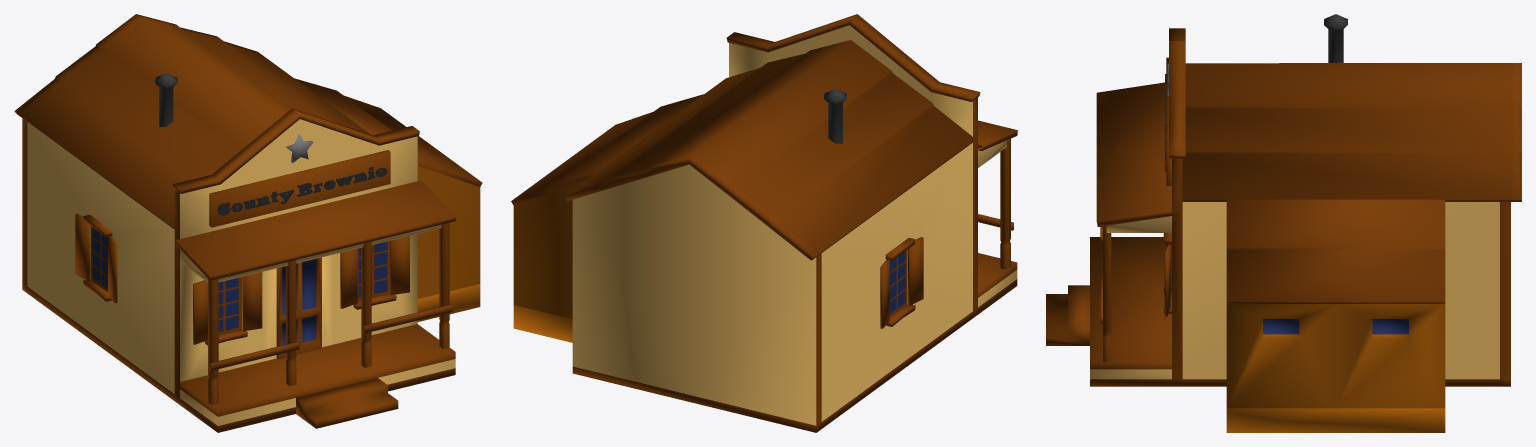
The model's file is Western_CountyBrownie_Parts.fbx.
The picture shows the model from 3 angles, left to right: view 1: azimuth 30°, elevation 25°; view 2: azimuth 150°, elevation 25°; view 3: azimuth 270°, elevation 25°; orthographic projection. The views are drawn at different scales.
Visible parts, largest first — view 1: WesternBuilding_CountyBrownie.Parts.024, WesternBuilding_CountyBrownie.Parts.003, WesternBuilding_CountyBrownie.Parts, WesternBuilding_CountyBrownie.Parts.005, WesternBuilding_CountyBrownie.Parts.006, WesternBuilding_CountyBrownie.Parts.007, WesternBuilding_CountyBrownie.Parts.002, WesternBuilding_CountyBrownie.Parts.008, WesternBuilding_CountyBrownie.Parts.001, WesternBuilding_CountyBrownie.Parts.022, WesternBuilding_CountyBrownie.Parts.018, WesternBuilding_CountyBrownie.Parts.023 (+8 smaller); view 2: WesternBuilding_CountyBrownie.Parts, WesternBuilding_CountyBrownie.Parts.003, WesternBuilding_CountyBrownie.Parts.002, WesternBuilding_CountyBrownie.Parts.006, WesternBuilding_CountyBrownie.Parts.024, WesternBuilding_CountyBrownie.Parts.001, WesternBuilding_CountyBrownie.Parts.008, WesternBuilding_CountyBrownie.Parts.022, WesternBuilding_CountyBrownie.Parts.004, WesternBuilding_CountyBrownie.Parts.005; view 3: WesternBuilding_CountyBrownie.Parts.002, WesternBuilding_CountyBrownie.Parts.006, WesternBuilding_CountyBrownie.Parts.001, WesternBuilding_CountyBrownie.Parts, WesternBuilding_CountyBrownie.Parts.024, WesternBuilding_CountyBrownie.Parts.005, WesternBuilding_CountyBrownie.Parts.008, WesternBuilding_CountyBrownie.Parts.019, WesternBuilding_CountyBrownie.Parts.004, WesternBuilding_CountyBrownie.Parts.007, WesternBuilding_CountyBrownie.Parts.015.
Boxes of the visible parts, x1,y1,x2,y2 form: WesternBuilding_CountyBrownie.Parts.024: (174, 119, 455, 432); WesternBuilding_CountyBrownie.Parts.003: (14, 14, 278, 229); WesternBuilding_CountyBrownie.Parts: (22, 118, 174, 400); WesternBuilding_CountyBrownie.Parts.005: (175, 180, 456, 280); WesternBuilding_CountyBrownie.Parts.006: (417, 166, 480, 321); WesternBuilding_CountyBrownie.Parts.007: (209, 150, 390, 227); WesternBuilding_CountyBrownie.Parts.002: (136, 14, 370, 134); WesternBuilding_CountyBrownie.Parts.008: (172, 108, 419, 193); WesternBuilding_CountyBrownie.Parts.001: (294, 78, 482, 186); WesternBuilding_CountyBrownie.Parts.022: (208, 279, 218, 405); WesternBuilding_CountyBrownie.Parts.018: (361, 242, 371, 367); WesternBuilding_CountyBrownie.Parts.023: (286, 260, 296, 386); WesternBuilding_CountyBrownie.Parts: (572, 143, 972, 432); WesternBuilding_CountyBrownie.Parts.003: (689, 40, 975, 260); WesternBuilding_CountyBrownie.Parts.002: (564, 40, 850, 200); WesternBuilding_CountyBrownie.Parts.006: (513, 181, 584, 342); WesternBuilding_CountyBrownie.Parts.024: (729, 25, 1017, 317); WesternBuilding_CountyBrownie.Parts.001: (511, 94, 703, 205); WesternBuilding_CountyBrownie.Parts.008: (726, 14, 980, 101); WesternBuilding_CountyBrownie.Parts.022: (1000, 138, 1010, 269); WesternBuilding_CountyBrownie.Parts.004: (824, 88, 846, 143); WesternBuilding_CountyBrownie.Parts.005: (978, 120, 1017, 150); WesternBuilding_CountyBrownie.Parts.002: (1182, 63, 1521, 201); WesternBuilding_CountyBrownie.Parts.006: (1226, 304, 1445, 432); WesternBuilding_CountyBrownie.Parts.001: (1226, 199, 1445, 303); WesternBuilding_CountyBrownie.Parts: (1182, 202, 1510, 386); WesternBuilding_CountyBrownie.Parts.024: (1046, 158, 1182, 386); WesternBuilding_CountyBrownie.Parts.005: (1096, 82, 1172, 226); WesternBuilding_CountyBrownie.Parts.008: (1169, 28, 1185, 158); WesternBuilding_CountyBrownie.Parts.019: (1103, 226, 1111, 361); WesternBuilding_CountyBrownie.Parts.004: (1324, 14, 1347, 62); WesternBuilding_CountyBrownie.Parts.007: (1165, 57, 1171, 185); WesternBuilding_CountyBrownie.Parts.015: (1164, 244, 1170, 316).
Size of the model in its own units: 761 by 571 by 870.
1 material, 1 textured.
